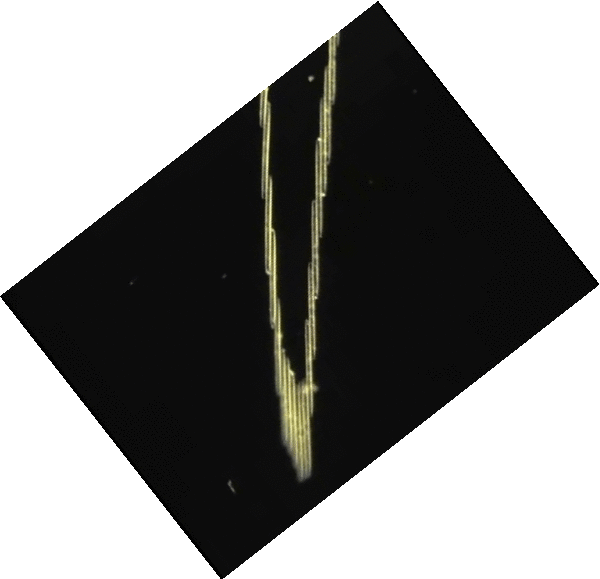bacilleria: (296, 385, 310, 478), (306, 264, 318, 359), (304, 320, 316, 415), (320, 99, 330, 199), (274, 298, 283, 393), (316, 136, 324, 239), (268, 229, 276, 327), (311, 201, 319, 298), (323, 68, 331, 164), (263, 103, 271, 198), (265, 175, 272, 274), (290, 370, 297, 469), (329, 36, 338, 104), (285, 358, 291, 452), (280, 348, 285, 446), (260, 92, 267, 128)
